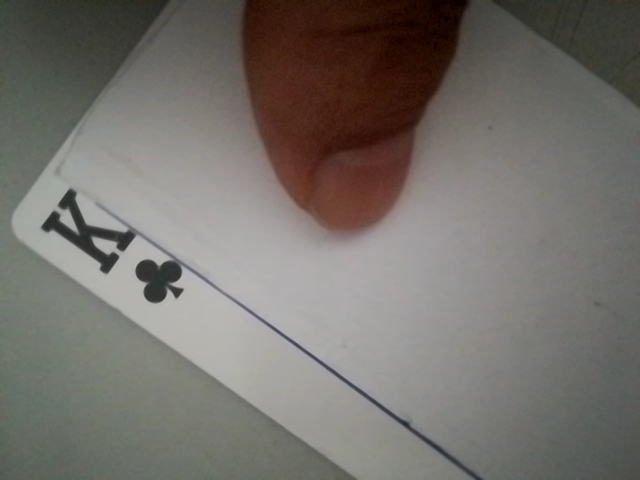mh k: (23, 189, 205, 313)
